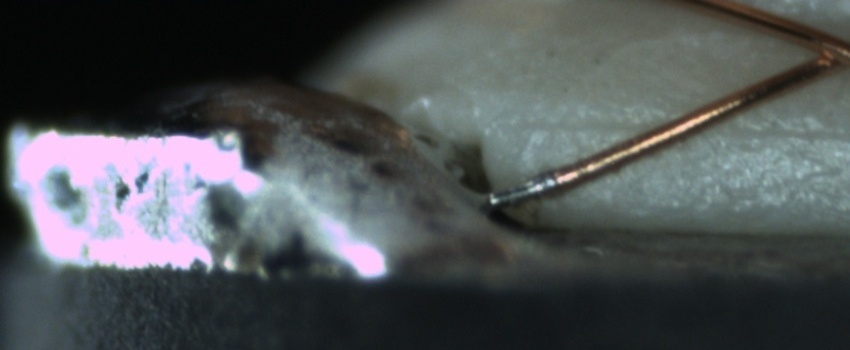CL: (792, 23, 850, 78)
DL: (521, 98, 849, 159)
TS: (486, 174, 555, 207)
